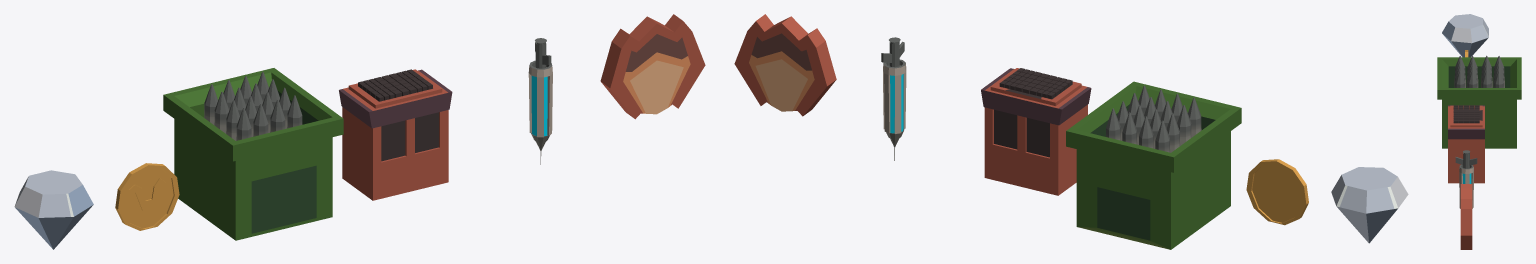
The model's file is itemsFinal.glb.
The picture shows the model from 3 angles, left to right: view 1: azimuth 30°, elevation 25°; view 2: azimuth 150°, elevation 25°; view 3: azimuth 270°, elevation 25°; orthographic projection. The views are drawn at different scales.
Parts seen in each view (by area): view 1: Caja de municion 2, CajaMunicion, Cube.001, Diamante, Cylinder, Inyeccion; view 2: Caja de municion 2, CajaMunicion, Cube.001, Diamante, Cylinder, Inyeccion; view 3: Caja de municion 2, CajaMunicion, Diamante, Cube.001, Inyeccion.
Boxes of the visible parts, box(x1,y1,x2,y2) form: Caja de municion 2: box(163, 68, 343, 240); CajaMunicion: box(339, 69, 452, 200); Cube.001: box(600, 14, 705, 119); Diamante: box(14, 170, 93, 249); Cylinder: box(115, 163, 179, 230); Inyeccion: box(528, 38, 552, 164); Caja de municion 2: box(1066, 81, 1241, 249); CajaMunicion: box(981, 68, 1091, 195); Cube.001: box(734, 14, 836, 116); Diamante: box(1331, 167, 1408, 243); Cylinder: box(1246, 159, 1308, 225); Inyeccion: box(881, 37, 906, 160); Caja de municion 2: box(1437, 55, 1521, 148); CajaMunicion: box(1448, 105, 1484, 183); Diamante: box(1442, 14, 1488, 57); Cube.001: box(1460, 184, 1472, 249); Inyeccion: box(1455, 150, 1477, 208).
Bounding box in the file's own units: 19.26 × 3.64 × 3.4.
Materials: 2 (1 with a texture image).
